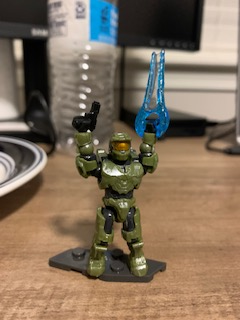chief: (72, 115, 159, 276)
pistol: (71, 99, 101, 133)
spartan: (70, 113, 157, 274)
up: (71, 114, 161, 198)
